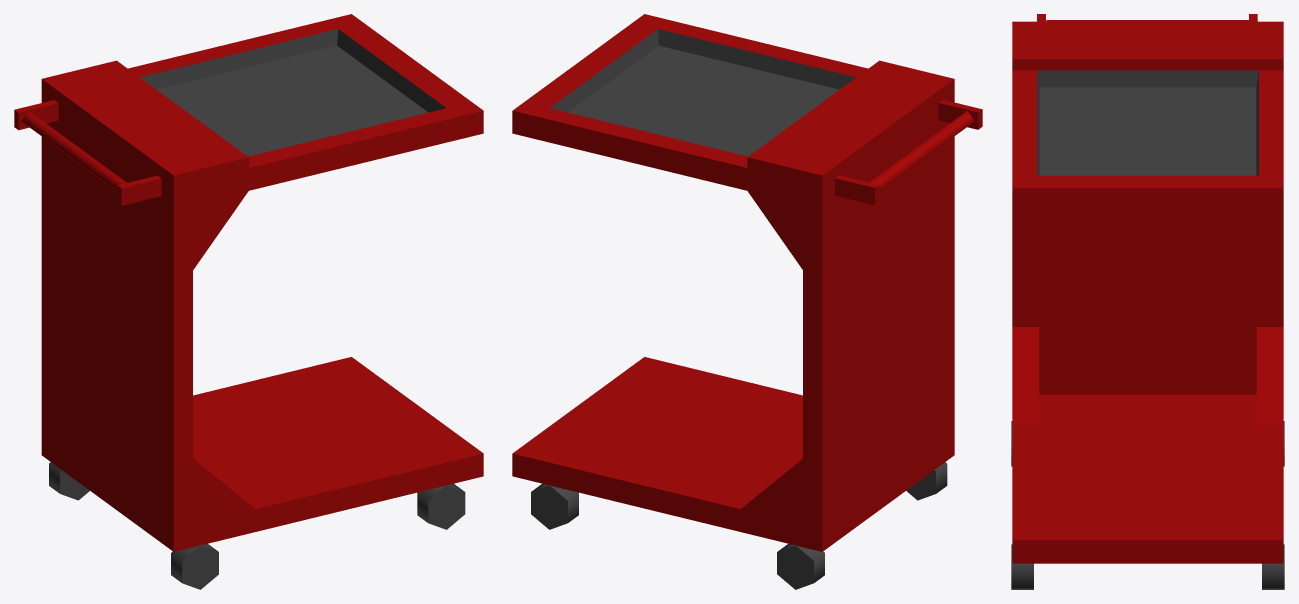
File: SM_Cart.fbx
3 renders of one model, left to right at view 1: azimuth 30°, elevation 25°; view 2: azimuth 150°, elevation 25°; view 3: azimuth 270°, elevation 25°, orthographic. The views are drawn at different scales.
Visible parts, largest first — view 1: pCylinder3; view 2: pCylinder3; view 3: pCylinder3.
Part boxes in pixels (x1,y1,x2,y2): pCylinder3: [14, 14, 483, 589]; pCylinder3: [512, 14, 982, 589]; pCylinder3: [1011, 14, 1284, 589].
Bounding box in the file's own units: 71.71 × 82.32 × 47.26.
